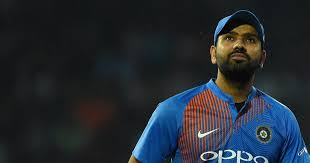Indian_Male: (214, 18, 265, 77)
